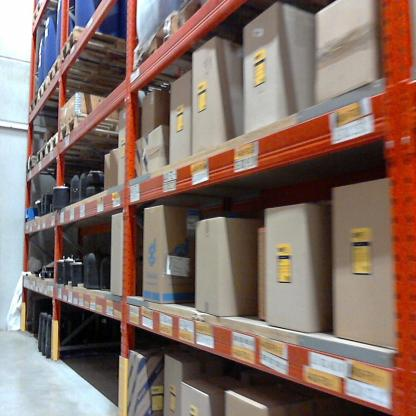pallet: (127, 10, 219, 85), (46, 55, 126, 103), (61, 24, 132, 74), (36, 75, 112, 117), (62, 112, 134, 156), (179, 0, 257, 38), (34, 0, 105, 39), (43, 130, 108, 166), (36, 143, 83, 167), (23, 156, 79, 176), (28, 94, 68, 121)
